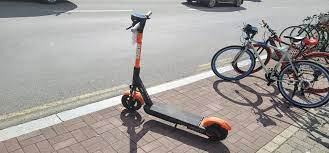kick_board: (122, 12, 230, 140)
kick_handler: (125, 11, 152, 31)
kick_neck: (132, 32, 142, 85)
kick_wheel: (203, 119, 228, 141), (121, 90, 141, 110)
